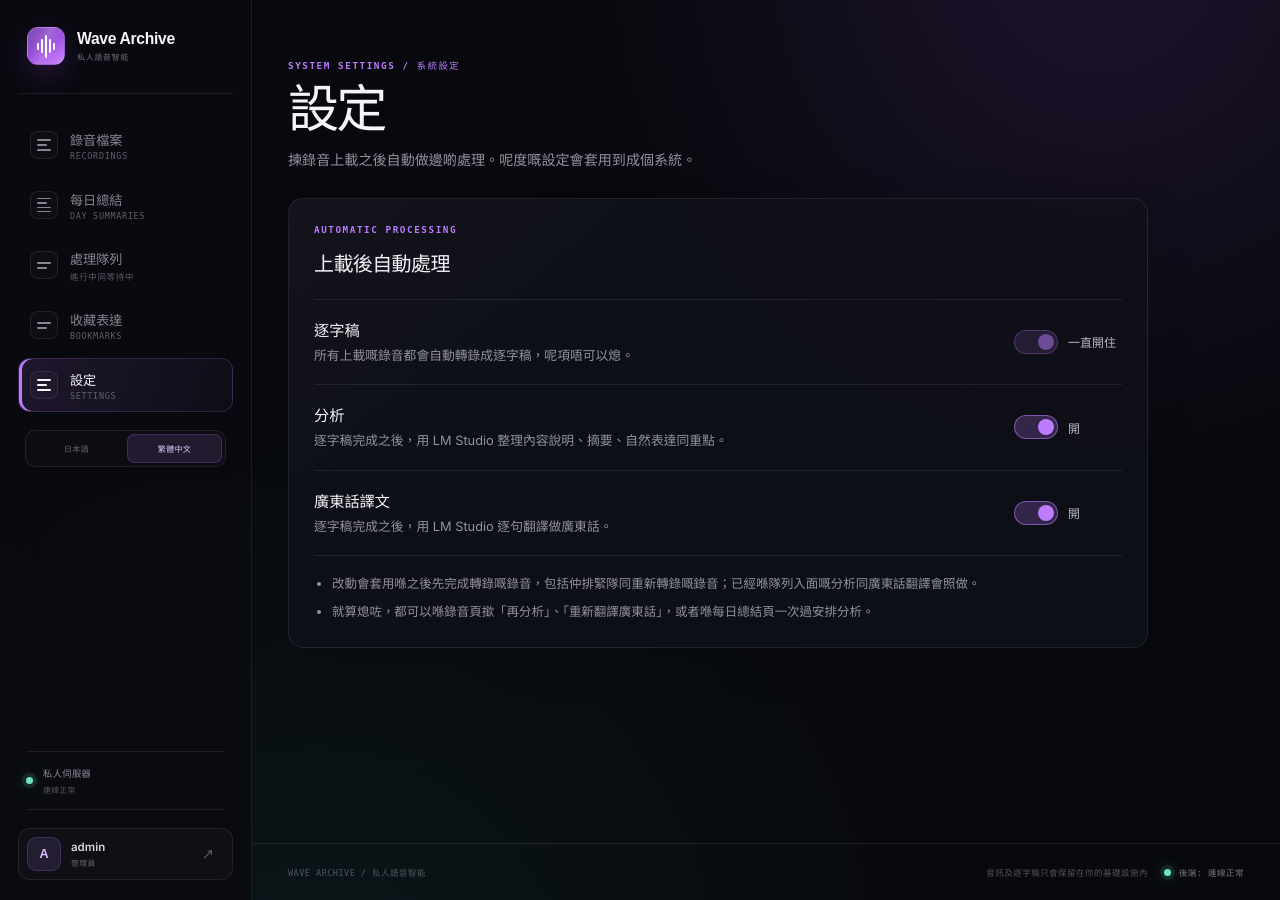
Scenario: settings page › explains a refused security check instead of a generic failure
Click the switch named "分析".
click(1047, 427)  # box [1014,415,1080,439]
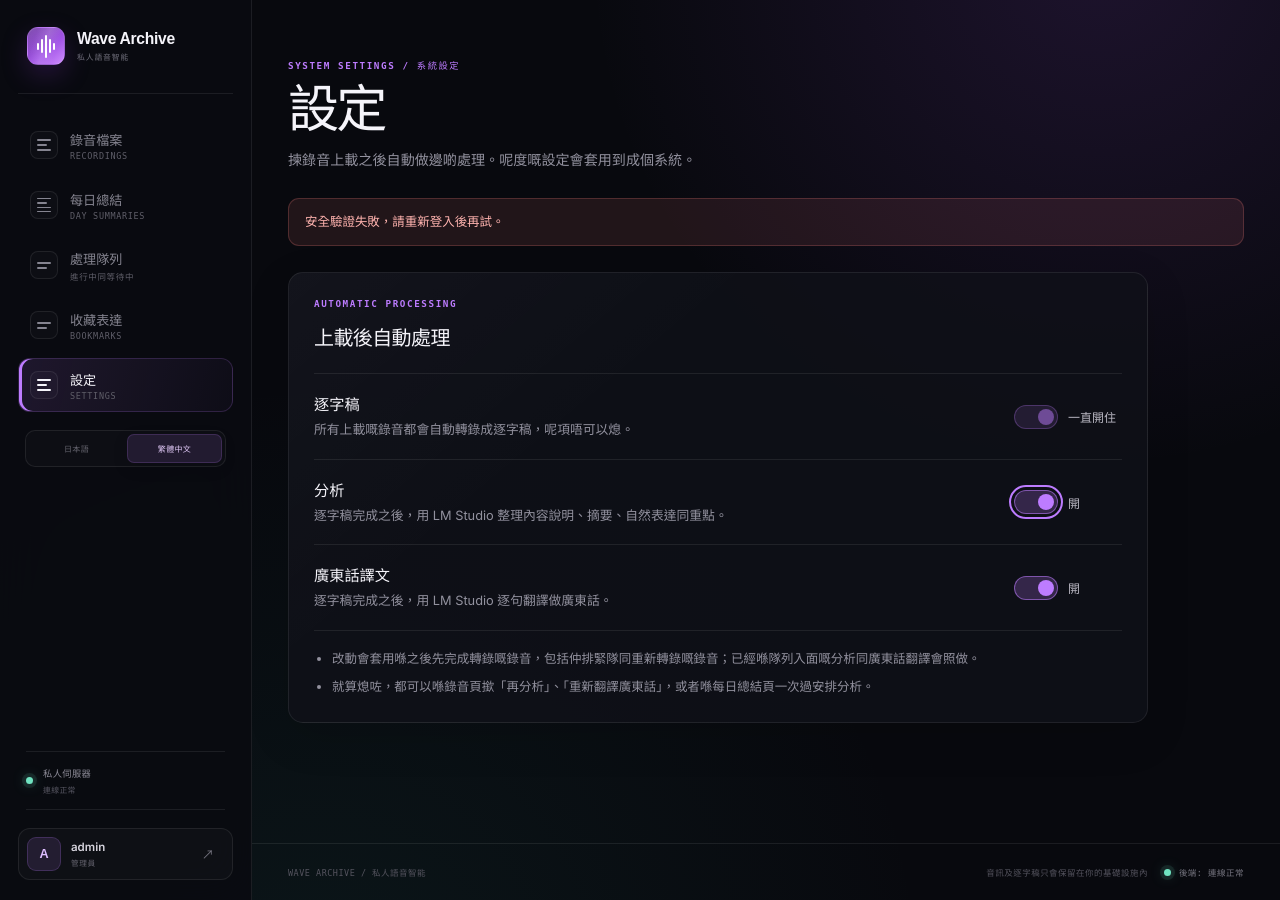
Expected: the message "安全驗證失敗，請重新登入後再試。" is shown, [288,198,1244,246]
